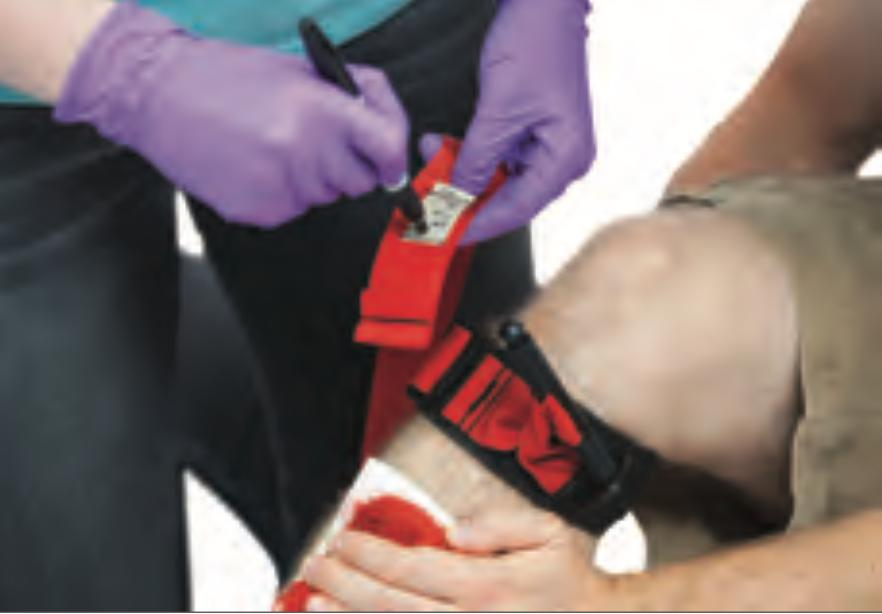gauze: (261, 453, 470, 612)
